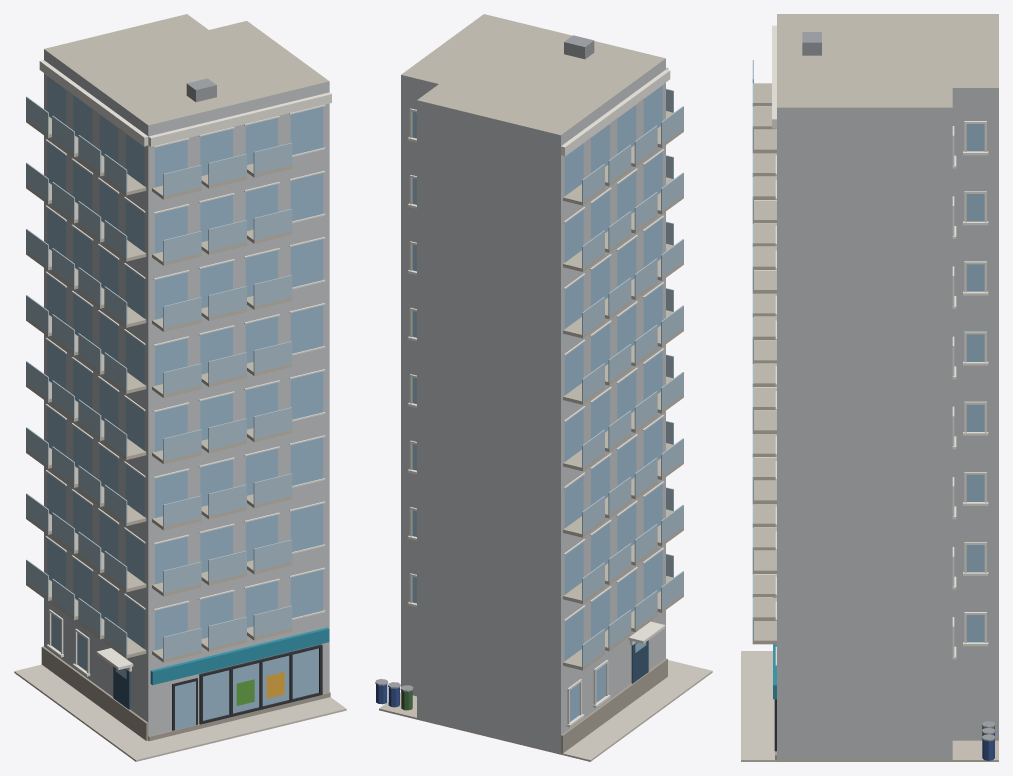
The model's file is Blok_kose_9k_1_Hafif.fbx.
3 views of the same model, side by side, from view 1: azimuth 30°, elevation 25°; view 2: azimuth 150°, elevation 25°; view 3: azimuth 270°, elevation 25° (orthographic). The views are drawn at different scales.
Visible parts, largest first — view 1: Blok_kose_9k_1_Hafif; view 2: Blok_kose_9k_1_Hafif; view 3: Blok_kose_9k_1_Hafif.
Part boxes in pixels (x1,y1,x2,y2): Blok_kose_9k_1_Hafif: [14, 14, 346, 761]; Blok_kose_9k_1_Hafif: [375, 14, 712, 761]; Blok_kose_9k_1_Hafif: [741, 14, 998, 761].
Bounding box in the file's own units: 10.37 × 28.53 × 10.
